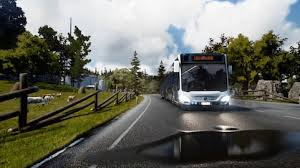bus: (160, 50, 233, 109)
